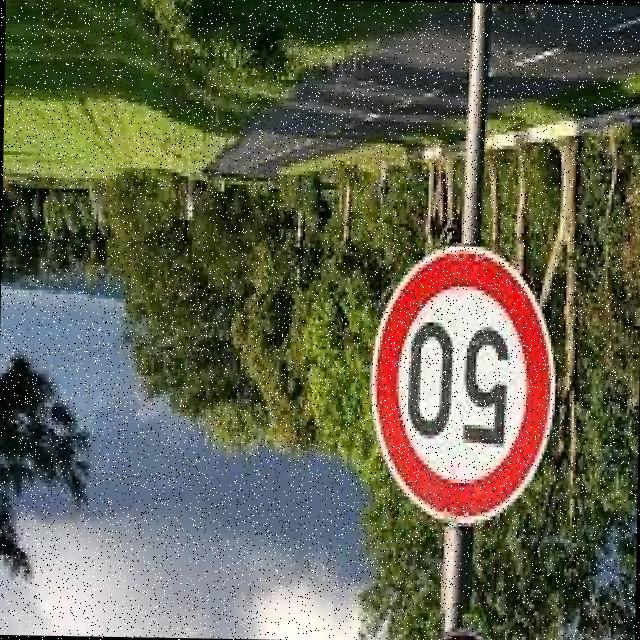speed_limit_50: (358, 242, 563, 536)
